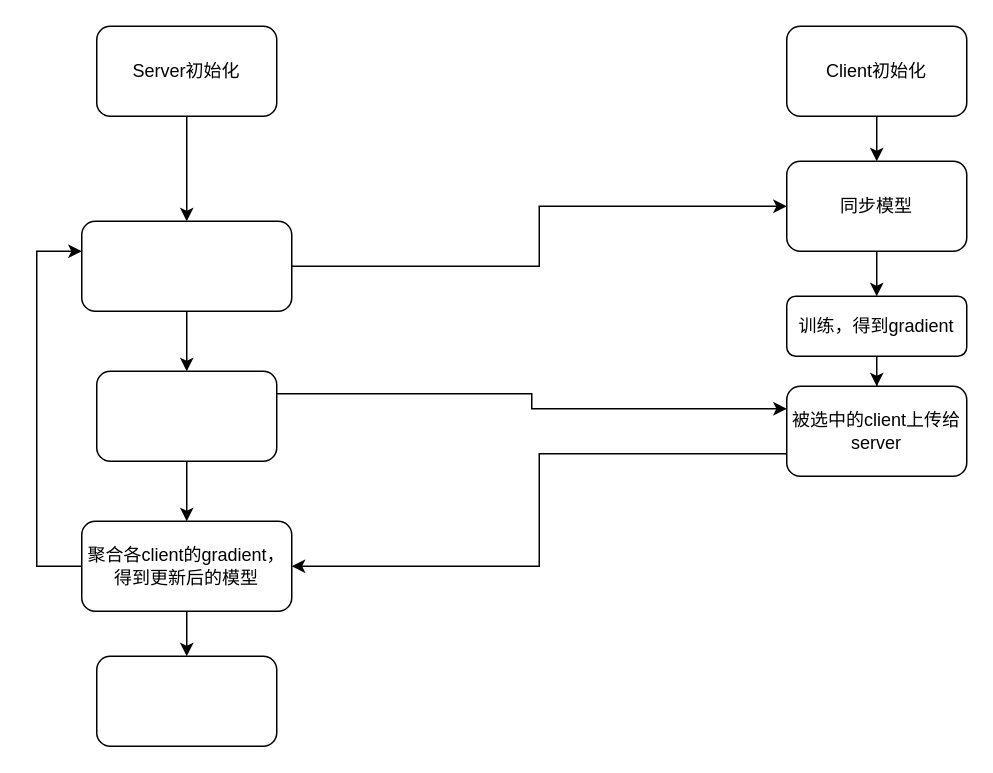
Some shapes in this 993 by 773 pixel diagram are drawn without their labels. The shapes that lost their labels are listed below. From the top down, each one's centre as x and y in pixels, then its label:
(186,265): 广播模型，各client同步
(186,415): 对client取样
(186,700): 测试accuracy
